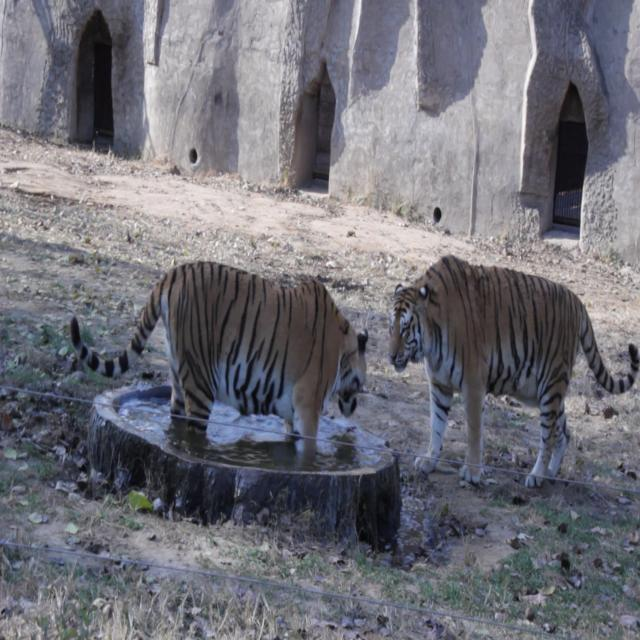Tiger: (66, 227, 372, 507), (384, 242, 640, 505)
